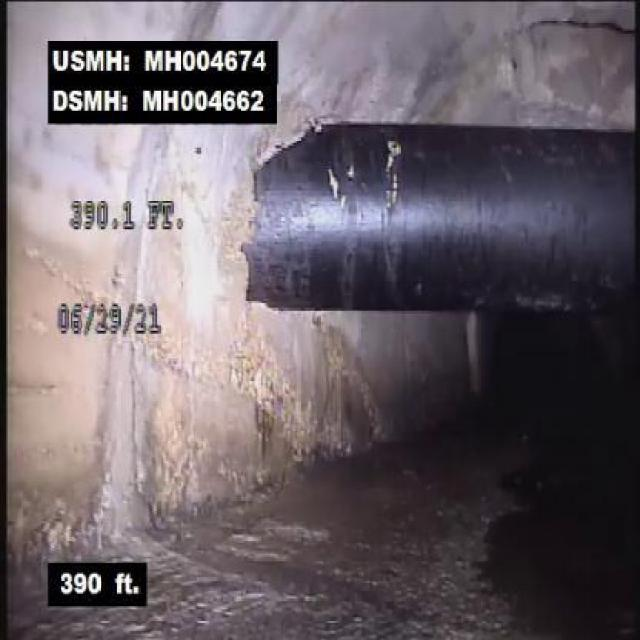Utility intrusion: (242, 116, 638, 322)
